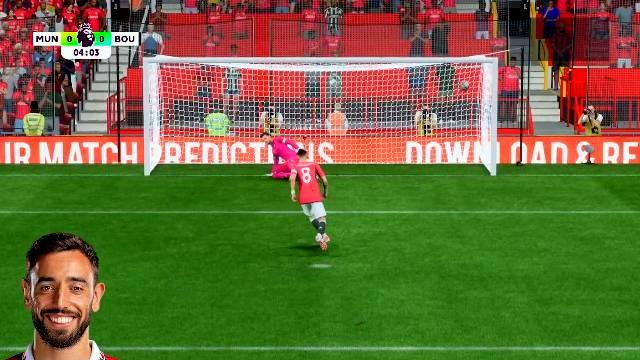bottom-left: (159, 128, 271, 178)
bottom-right: (375, 130, 487, 178)
center-down: (272, 130, 373, 178)
center-up: (271, 69, 371, 127)
football: (457, 80, 471, 92)
goalkeeper: (261, 126, 341, 180)
player: (285, 147, 335, 253)
top-left: (157, 70, 270, 128)
top-right: (374, 68, 488, 127)
